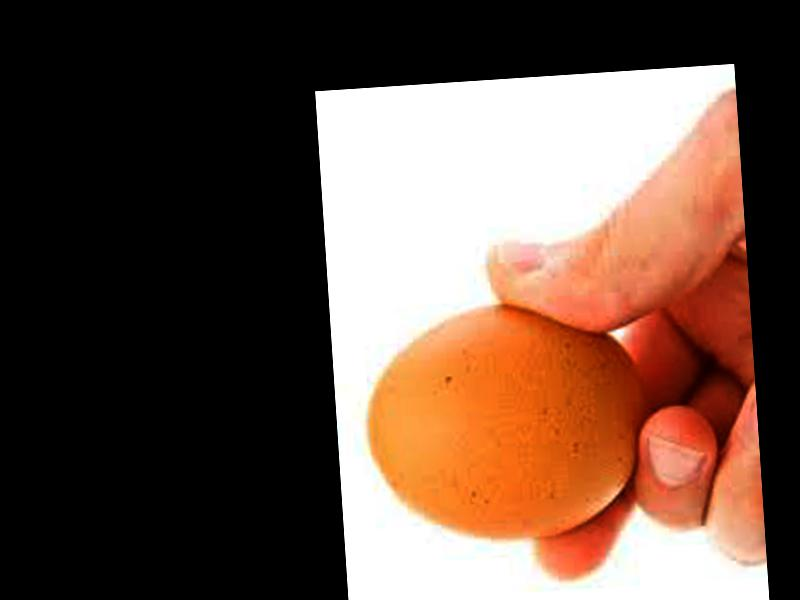Eggs: (358, 296, 647, 550)
